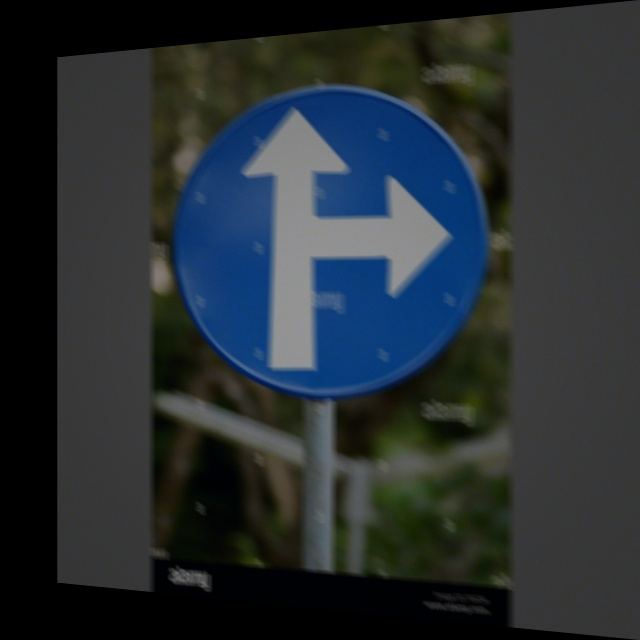Compulsory_Ahead_or_Turn_Right: (175, 70, 477, 398)
